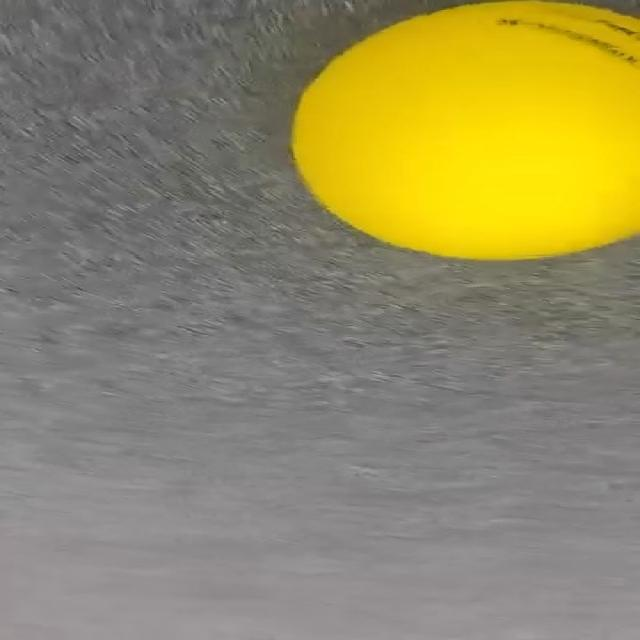Fuels: (286, 0, 640, 261)
